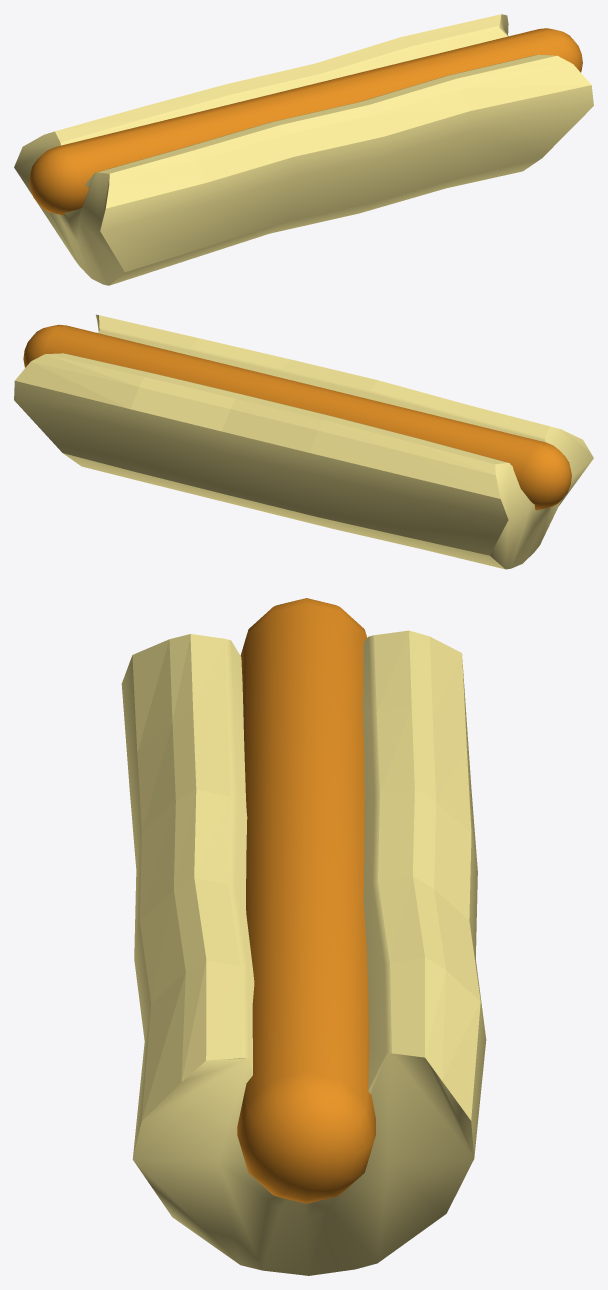
File: tocomple.FBX
3 renders of one model, top to bottom at view 1: azimuth 30°, elevation 25°; view 2: azimuth 150°, elevation 25°; view 3: azimuth 270°, elevation 25°, orthographic. The views are drawn at different scales.
Visible parts, largest first — view 1: Box001, Capsule001; view 2: Box001, Capsule001; view 3: Box001, Capsule001.
Boxes of the visible parts, x1,y1,x2,y2 form: Box001: (14, 14, 593, 285); Capsule001: (29, 28, 582, 215); Box001: (14, 314, 593, 569); Capsule001: (23, 324, 571, 510); Box001: (121, 630, 486, 1275); Capsule001: (237, 598, 375, 1203).
Bounding box in the file's own units: 505 × 148 × 116.
